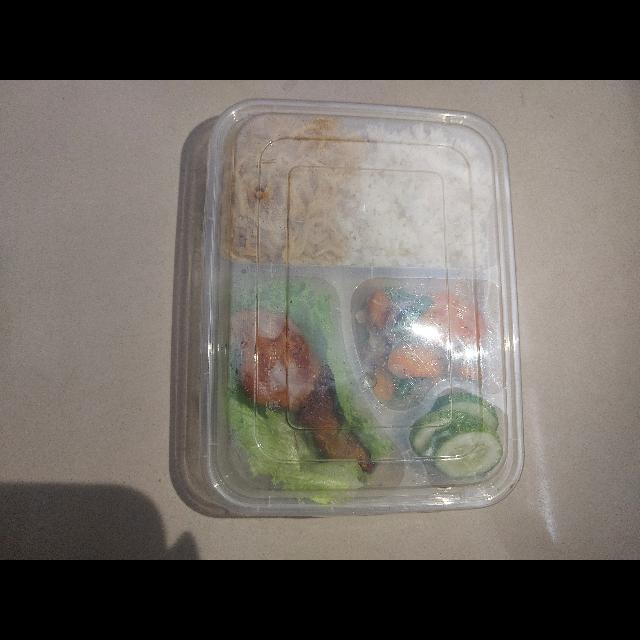bento: (198, 102, 524, 512)
